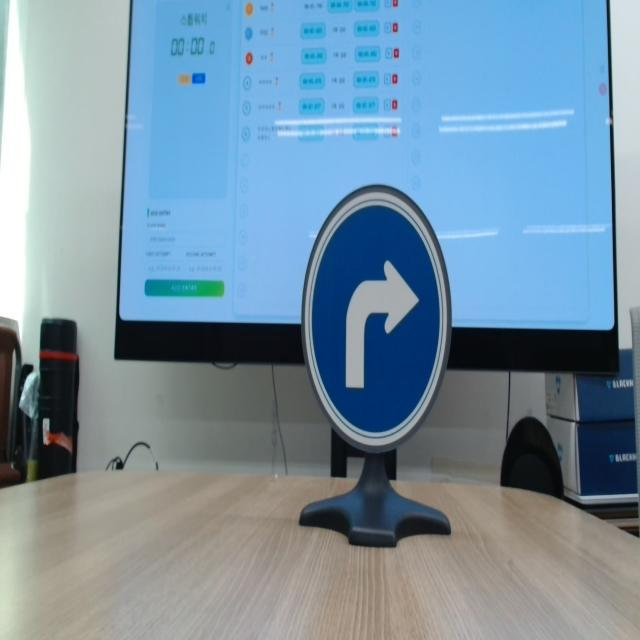right_dierection: (296, 179, 454, 465)
